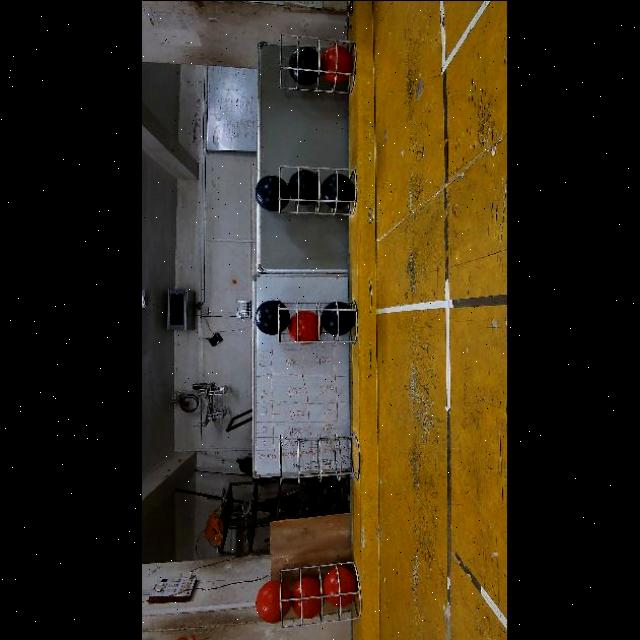P: (254, 174, 291, 211), (288, 45, 320, 85), (255, 299, 291, 334), (320, 174, 354, 209), (320, 301, 354, 334), (288, 168, 318, 204)
R: (255, 579, 291, 622), (323, 567, 357, 608), (290, 575, 322, 618), (320, 44, 353, 82), (288, 311, 321, 345)
S: (278, 558, 362, 628), (277, 33, 357, 96), (276, 164, 358, 218), (278, 431, 360, 483), (276, 298, 358, 344)
